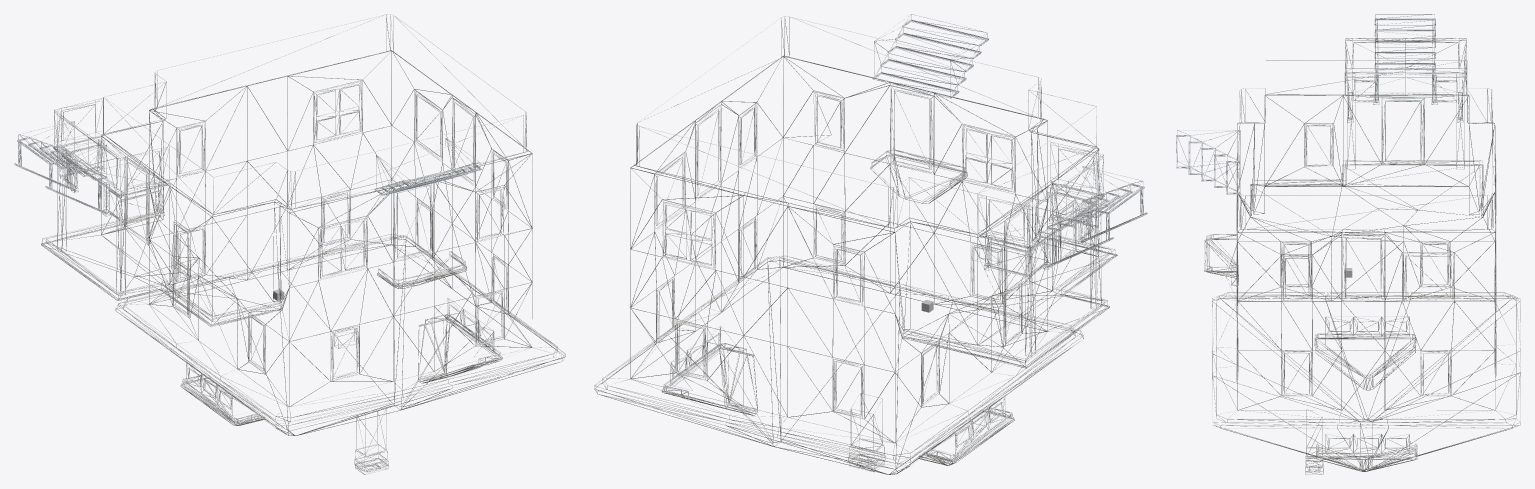
Rendered from housefix2.obj.
The picture shows the model from 3 angles, left to right: view 1: azimuth 30°, elevation 25°; view 2: azimuth 150°, elevation 25°; view 3: azimuth 270°, elevation 25°; orthographic projection. The views are drawn at different scales.
Visible parts, largest first — view 1: house; view 2: house; view 3: house.
Part boxes in pixels (x1,y1,x2,y2): house: (14,14,565,474); house: (594,14,1147,474); house: (1176,14,1520,474).
Bounding box in the file's own units: 125 × 97.65 × 93.21.
